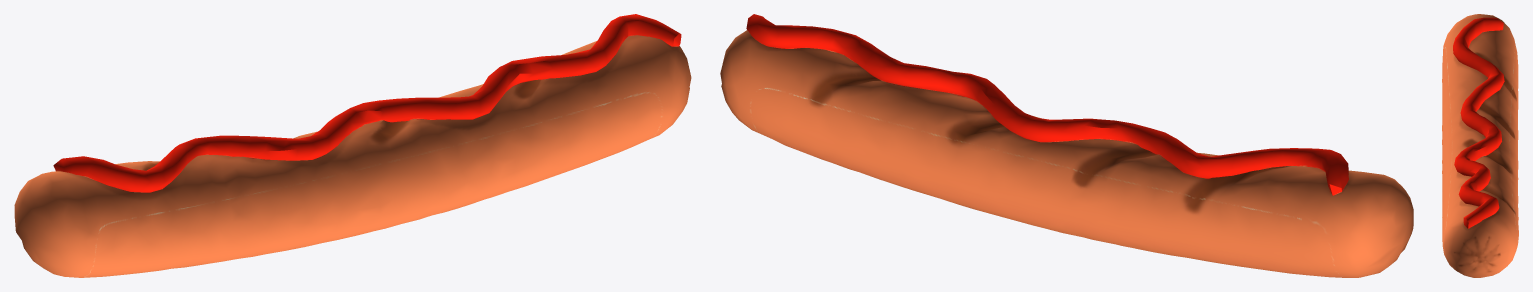
Rendered from hotdog.obj.
The picture shows the model from 3 angles, left to right: view 1: azimuth 30°, elevation 25°; view 2: azimuth 150°, elevation 25°; view 3: azimuth 270°, elevation 25°; orthographic projection. The views are drawn at different scales.
Parts seen in each view (by area): view 1: obj1.008, obj1.007, obj1.004, obj1.010, obj1.009, obj1.002, obj1.005, obj1.003; view 2: obj1.008, obj1.007, obj1.004, obj1.009, obj1.002, obj1.010, obj1.005; view 3: obj1.008, obj1.009, obj1.007, obj1.004, obj1.002, obj1.005, obj1.010, obj1.003, obj1.006.
Boxes of the visible parts, bbox=[...] form: obj1.008: bbox=[24, 79, 611, 277]; obj1.007: bbox=[14, 161, 177, 276]; obj1.004: bbox=[175, 90, 488, 160]; obj1.010: bbox=[526, 35, 675, 110]; obj1.009: bbox=[585, 39, 691, 161]; obj1.002: bbox=[472, 15, 681, 112]; obj1.005: bbox=[62, 142, 197, 192]; obj1.003: bbox=[620, 14, 680, 46]; obj1.008: bbox=[801, 76, 1400, 277]; obj1.007: bbox=[1218, 166, 1413, 263]; obj1.004: bbox=[953, 72, 1233, 177]; obj1.009: bbox=[720, 30, 831, 151]; obj1.002: bbox=[746, 14, 975, 100]; obj1.010: bbox=[749, 37, 873, 99]; obj1.005: bbox=[1198, 148, 1348, 185]; obj1.008: bbox=[1442, 40, 1518, 229]; obj1.009: bbox=[1442, 212, 1518, 277]; obj1.007: bbox=[1442, 14, 1518, 89]; obj1.004: bbox=[1456, 62, 1504, 161]; obj1.002: bbox=[1454, 158, 1499, 228]; obj1.005: bbox=[1453, 17, 1503, 77]; obj1.010: bbox=[1443, 190, 1514, 235]; obj1.003: bbox=[1463, 197, 1497, 223]; obj1.006: bbox=[1491, 18, 1503, 30].
Size of the model in its own units: 2.26 by 0.4477 by 0.334.
Materials: 1 (1 with a texture image).
